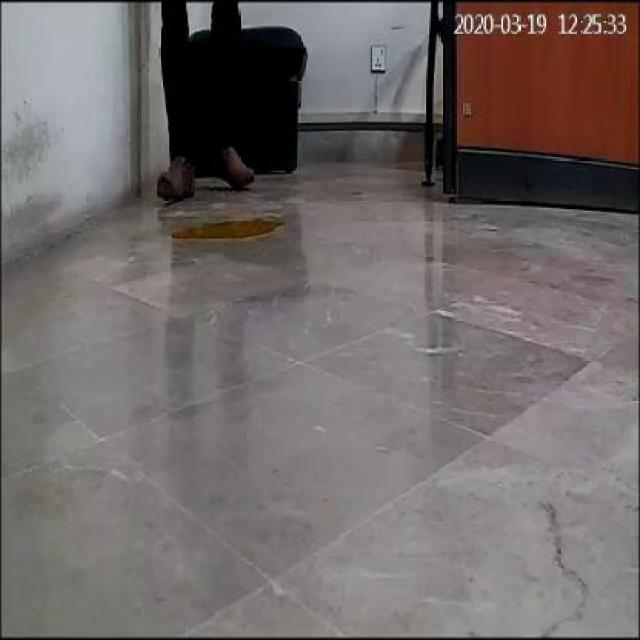spill: (166, 208, 282, 246)
